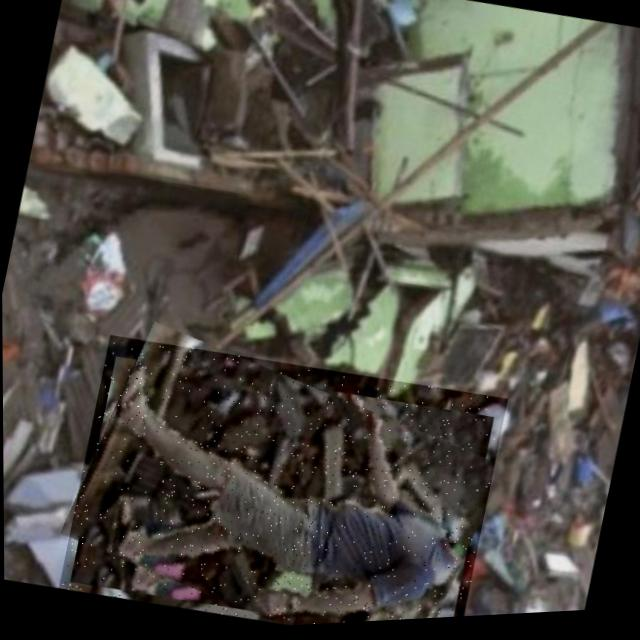Person in Rubble: (55, 320, 507, 638)
